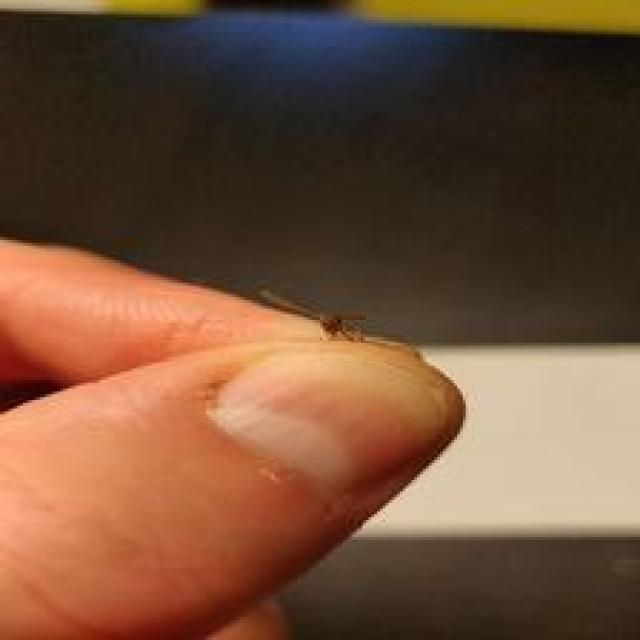Culex: (256, 284, 370, 344)
